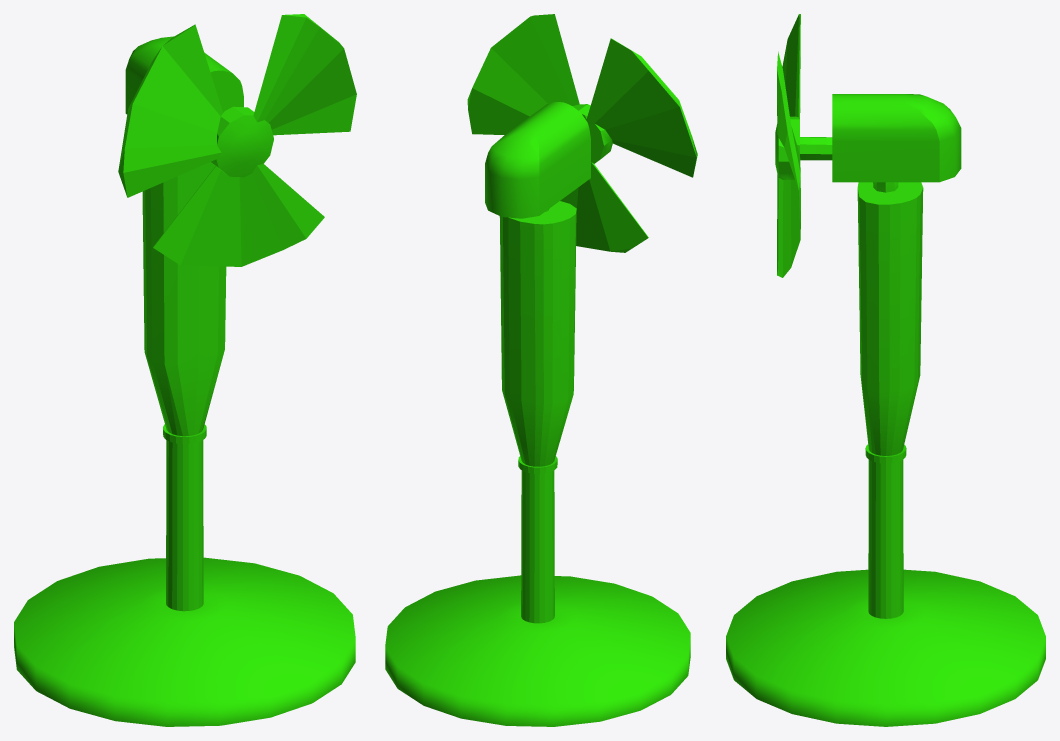
The model's file is Floor_Fan_PROP.fbx.
3 renders of one model, left to right at view 1: azimuth 30°, elevation 25°; view 2: azimuth 150°, elevation 25°; view 3: azimuth 270°, elevation 25°, orthographic. The views are drawn at different scales.
Visible parts, largest first — view 1: polySurface8; view 2: polySurface8; view 3: polySurface8.
Part boxes in pixels (x1,y1,x2,y2): polySurface8: (14, 14, 356, 726); polySurface8: (385, 14, 697, 726); polySurface8: (726, 14, 1045, 726).
Bounding box in the file's own units: 0.7832 × 1.69 × 0.7832.
